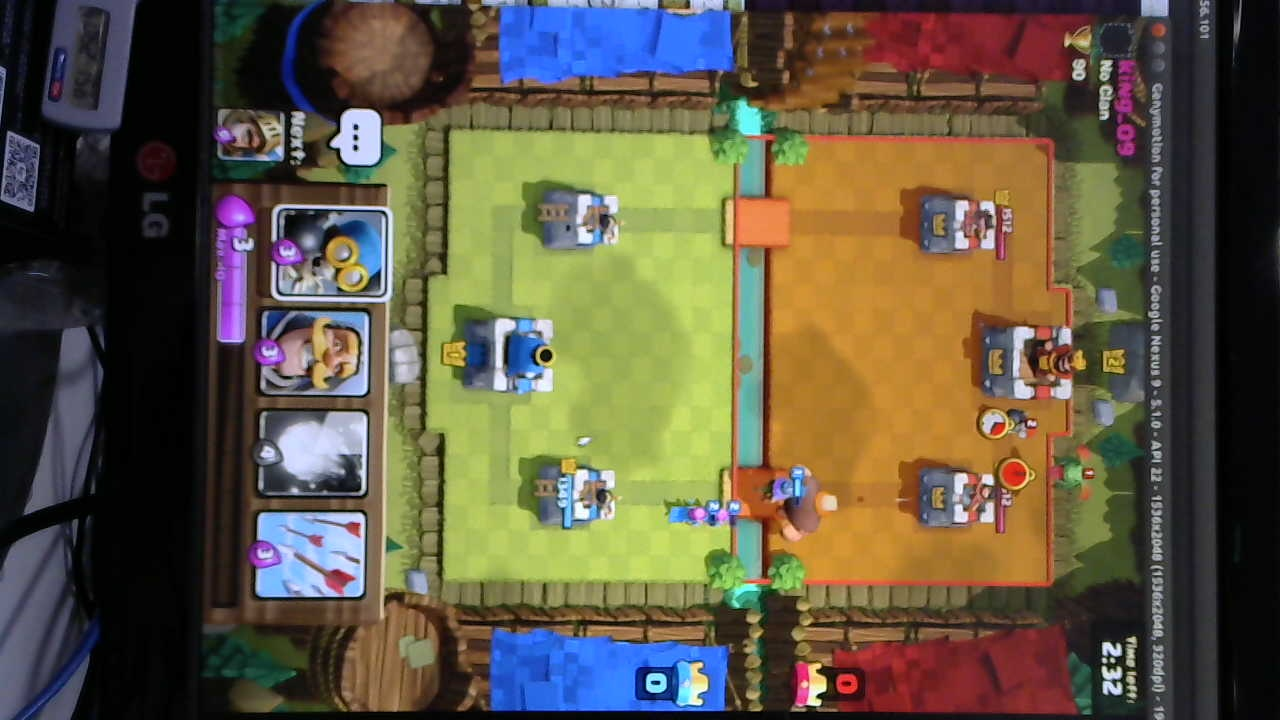archers: (663, 493, 748, 529)
arena: (540, 191, 622, 249), (544, 463, 615, 529)
bomb: (1000, 407, 1041, 441)
dragon: (1053, 444, 1100, 507)
earena: (919, 193, 1001, 255), (922, 466, 996, 529)
eking: (978, 324, 1082, 400)
giant: (782, 464, 838, 542)
king: (464, 313, 553, 397)
musketeer: (755, 473, 808, 510)
